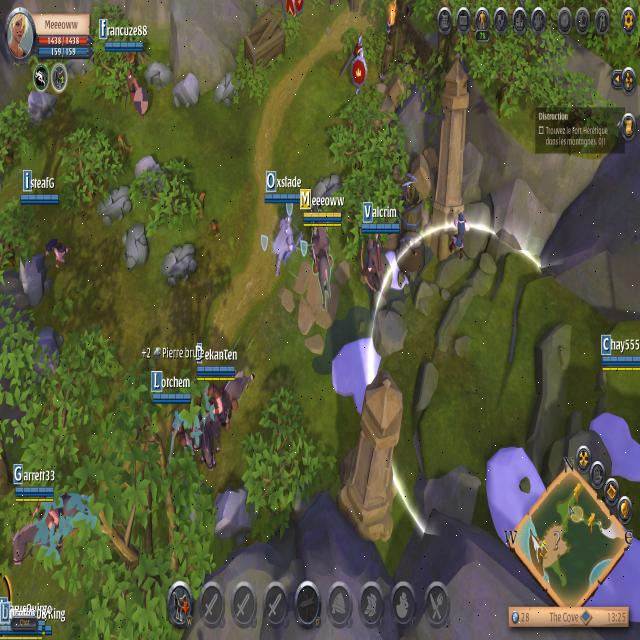broken stone: (93, 176, 136, 234), (158, 238, 200, 290), (210, 63, 244, 112), (311, 168, 347, 214), (121, 216, 149, 272), (142, 50, 174, 95)
stone: (209, 483, 261, 546), (30, 326, 66, 382), (133, 149, 169, 202), (18, 249, 50, 306), (168, 70, 202, 114), (23, 83, 56, 123)
